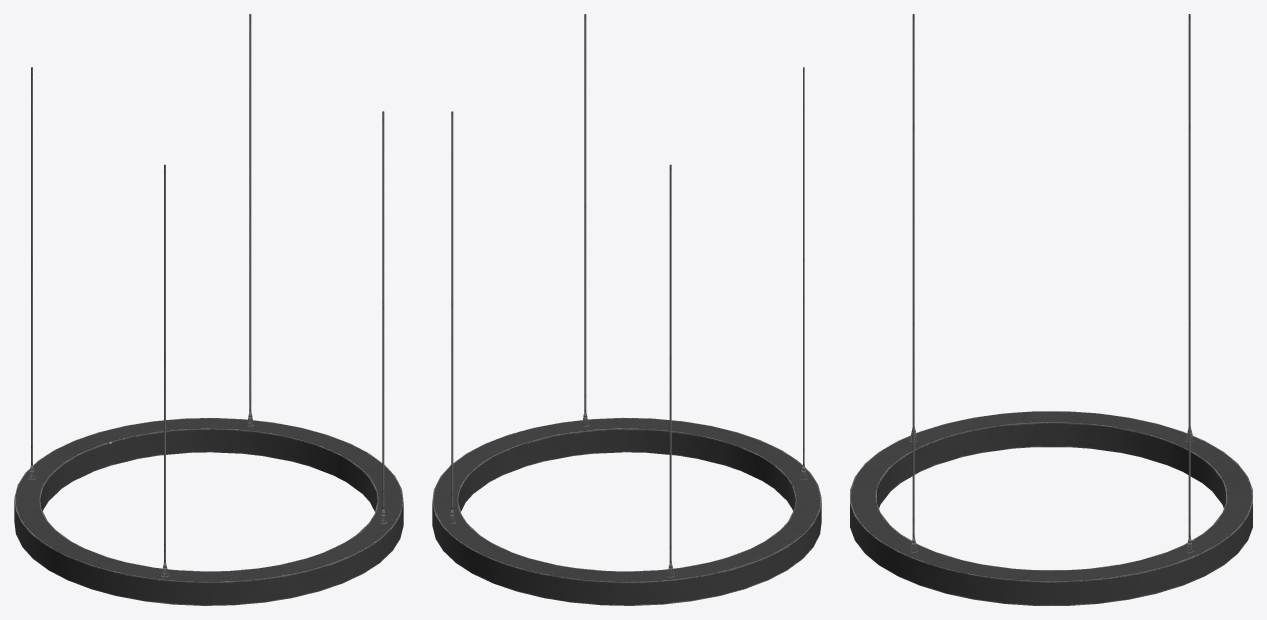
The model's file is ARC0810063.fbx.
The picture shows the model from 3 angles, left to right: view 1: azimuth 30°, elevation 25°; view 2: azimuth 150°, elevation 25°; view 3: azimuth 270°, elevation 25°; orthographic projection. The views are drawn at different scales.
Parts seen in each view (by area): view 1: smARC0810063; view 2: smARC0810063; view 3: smARC0810063.
Boxes of the visible parts, <box> form: smARC0810063: <box>14,14,403,605</box>; smARC0810063: <box>432,14,821,605</box>; smARC0810063: <box>850,14,1252,605</box>.
Size of the model in its own units: 78.3 by 96.66 by 78.3.
1 material, 1 textured.
